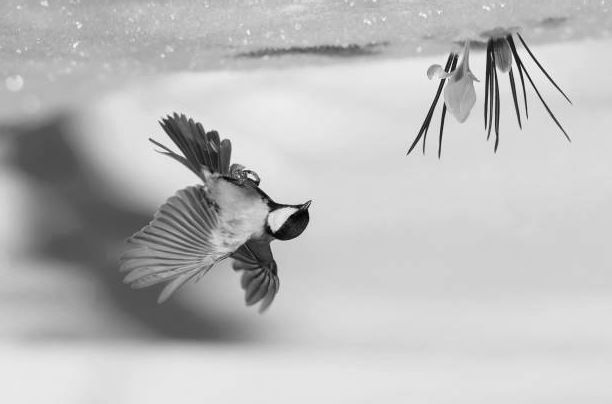Bird: (111, 108, 313, 325)
